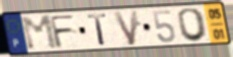5: (150, 9, 177, 44)
F: (48, 13, 77, 50)
M: (18, 14, 61, 52)
O: (176, 7, 210, 43)
T: (86, 13, 109, 47)
V: (112, 9, 140, 48)
